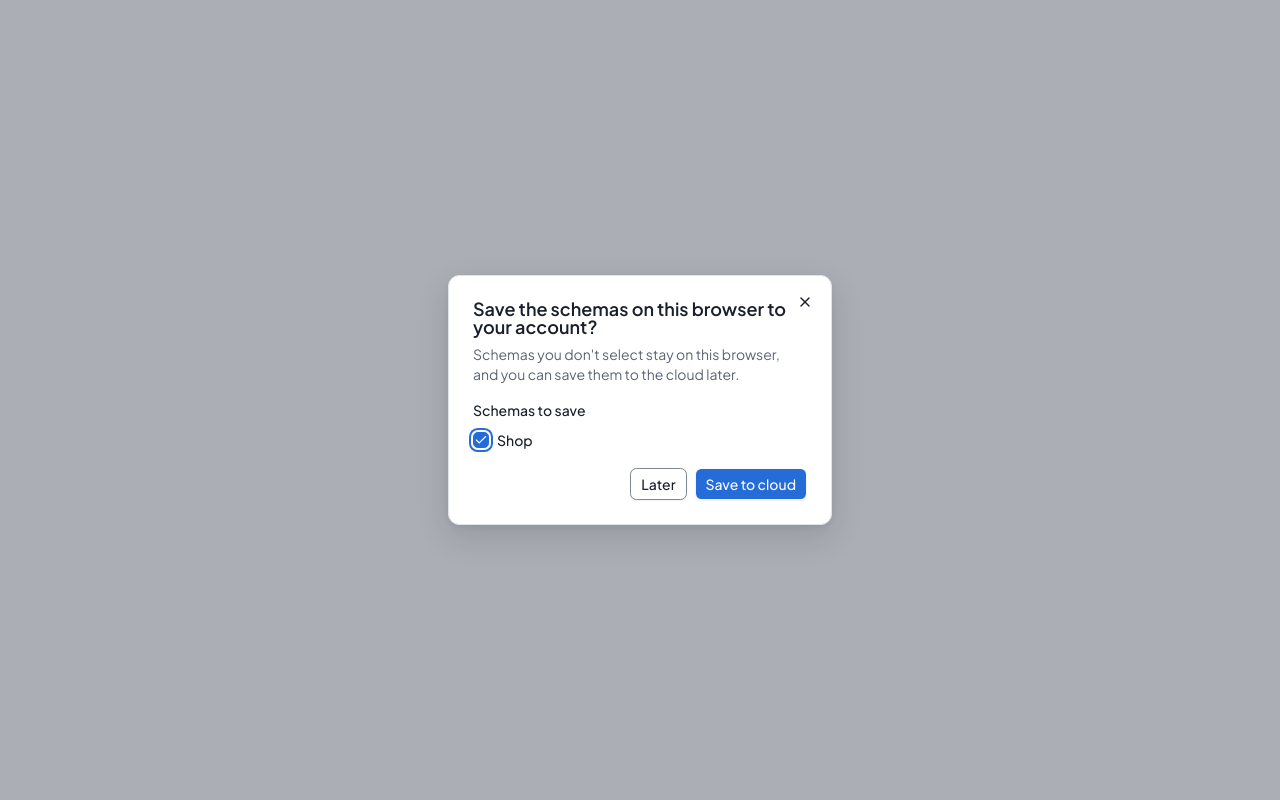
Test: UploadSchemasDialog › disables Save to cloud when nothing is checked
Click the checkbox named "Shop".
click(481, 440)  # box top-left (473, 432), bottom-right (489, 448)
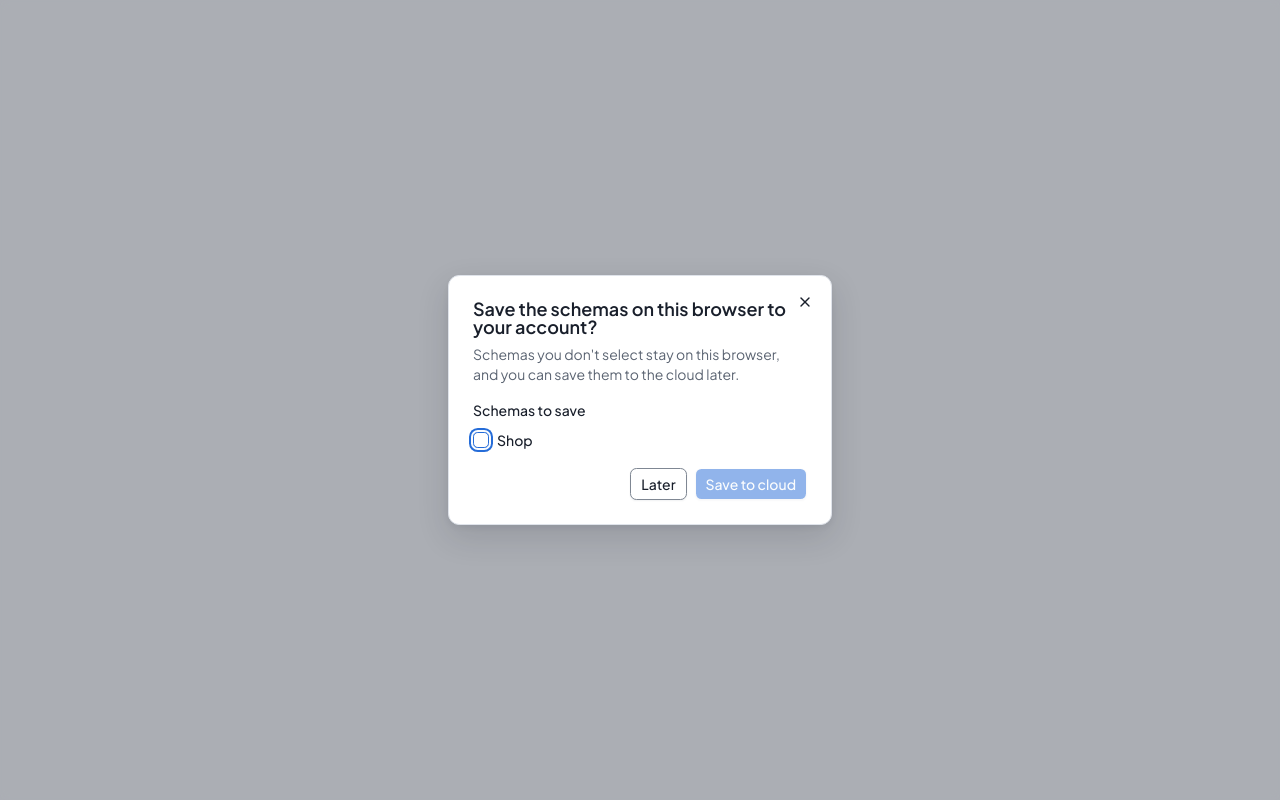
Result: the button "Save to cloud" is disabled at top-left (695, 468), bottom-right (807, 500)
